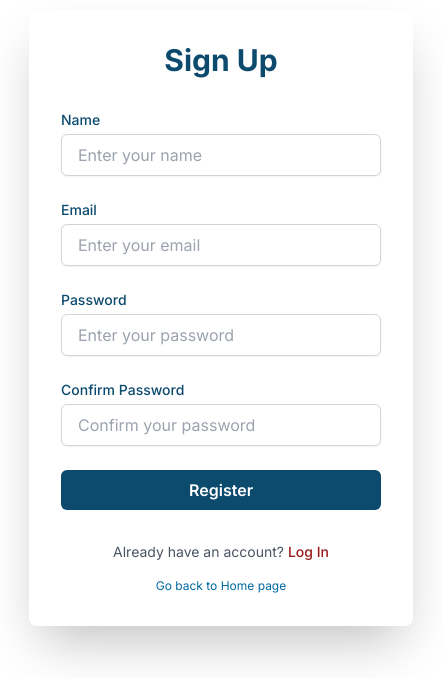
Scenario: Signup › handles successful signup
Step 1. Type "John Doe" into the field labelled "Name" → (221, 155), box [61,134,381,176]
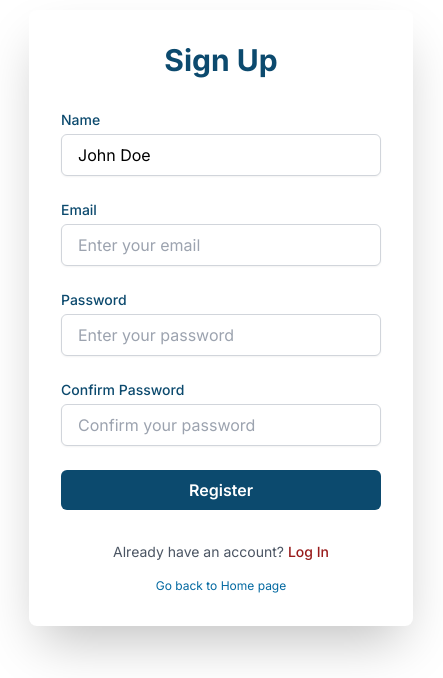
Step 2. Type "john@example.com" into the field labelled "Email" → (221, 245), box [61,224,381,266]
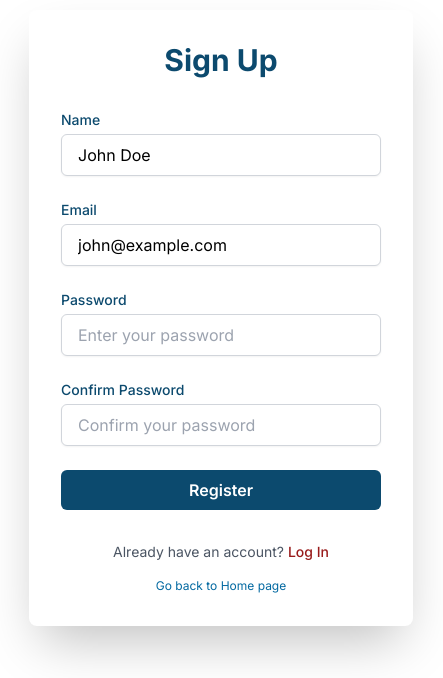
Step 3. Type "password123" into the password field labelled "Password" → (221, 335), box [61,314,381,356]
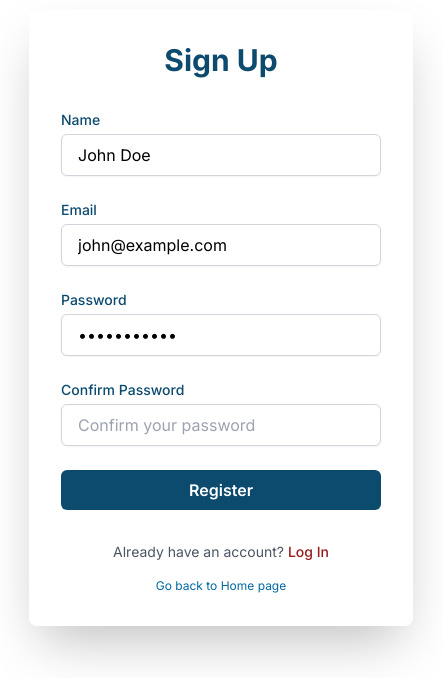
Step 4. Type "password123" into the password field labelled "Confirm Password" → (221, 425), box [61,404,381,446]
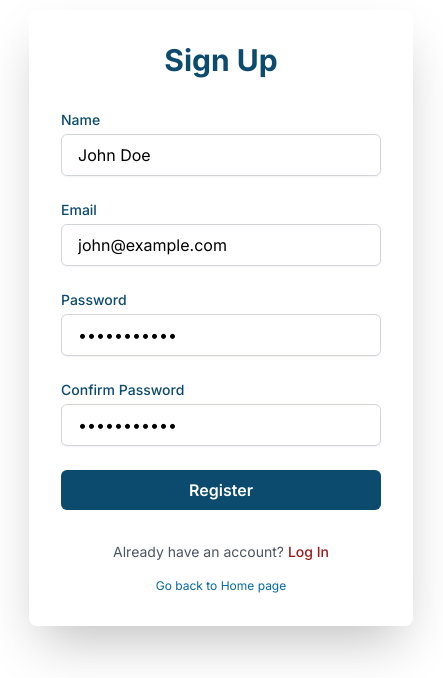
Step 5. Click the button "Register" → (221, 490), box [61,470,381,510]
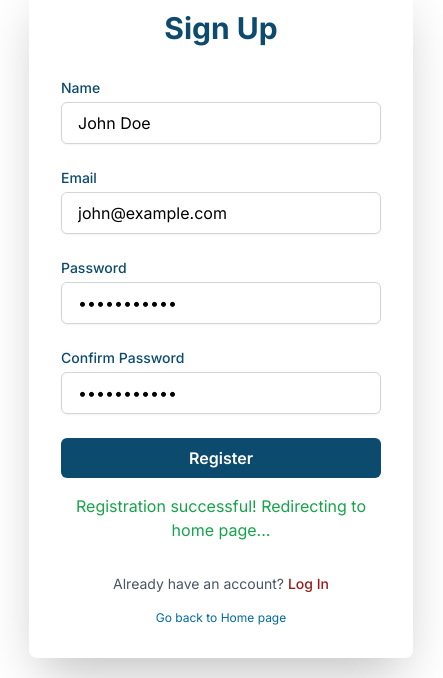
Now the text "Registration successful! Redirecting to home page..." is shown, box [61,494,381,542]
